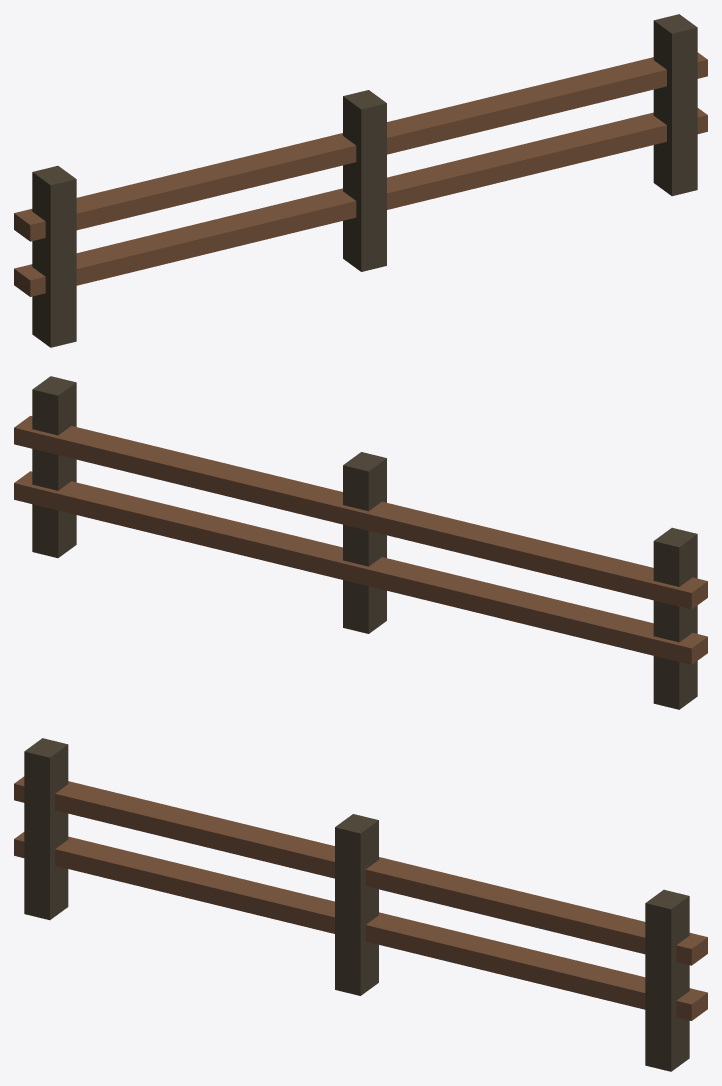
The model's file is field-fence.obj.
3 views of the same model, one above another, from view 1: azimuth 30°, elevation 25°; view 2: azimuth 150°, elevation 25°; view 3: azimuth 330°, elevation 25° (orthographic).
Bounding box in the file's own units: 3.84 × 0.88 × 0.21.
